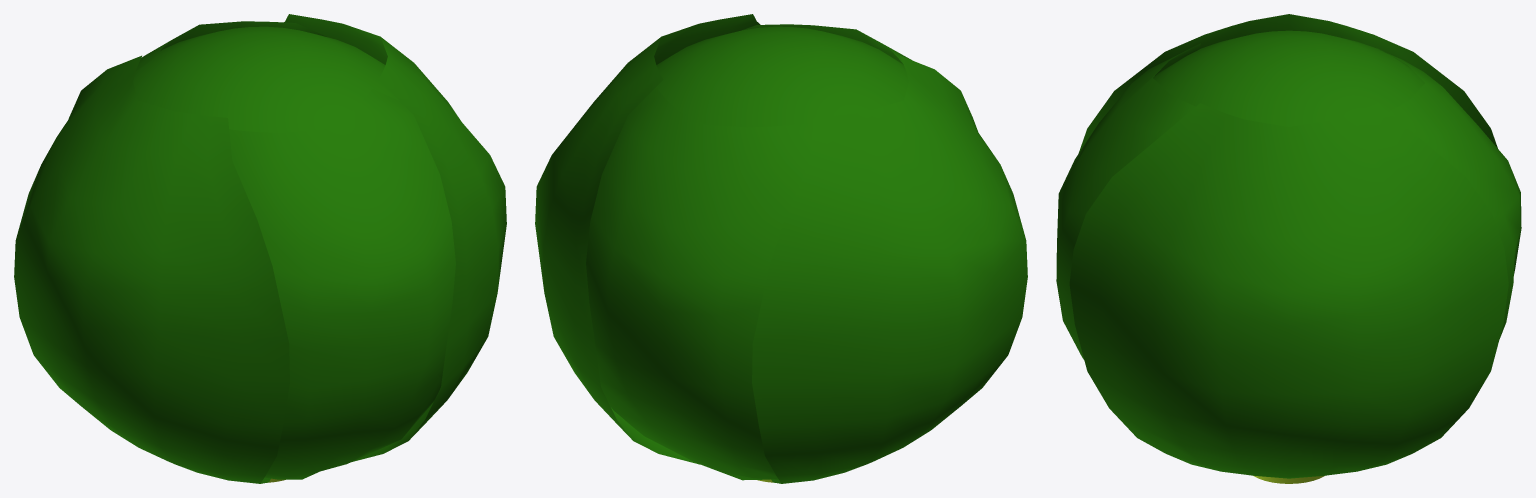
Rendered from Cabbage.fbx.
3 views of the same model, side by side, from view 1: azimuth 30°, elevation 25°; view 2: azimuth 150°, elevation 25°; view 3: azimuth 270°, elevation 25° (orthographic).
Parts seen in each view (by area): view 1: Cabbage; view 2: Cabbage; view 3: Cabbage.
Part boxes in pixels (left/top/right/bottom): Cabbage: left=14, top=14, right=506, bottom=483; Cabbage: left=535, top=14, right=1027, bottom=483; Cabbage: left=1056, top=14, right=1521, bottom=483.
Bounding box in the file's own units: 493 × 466 × 470.
